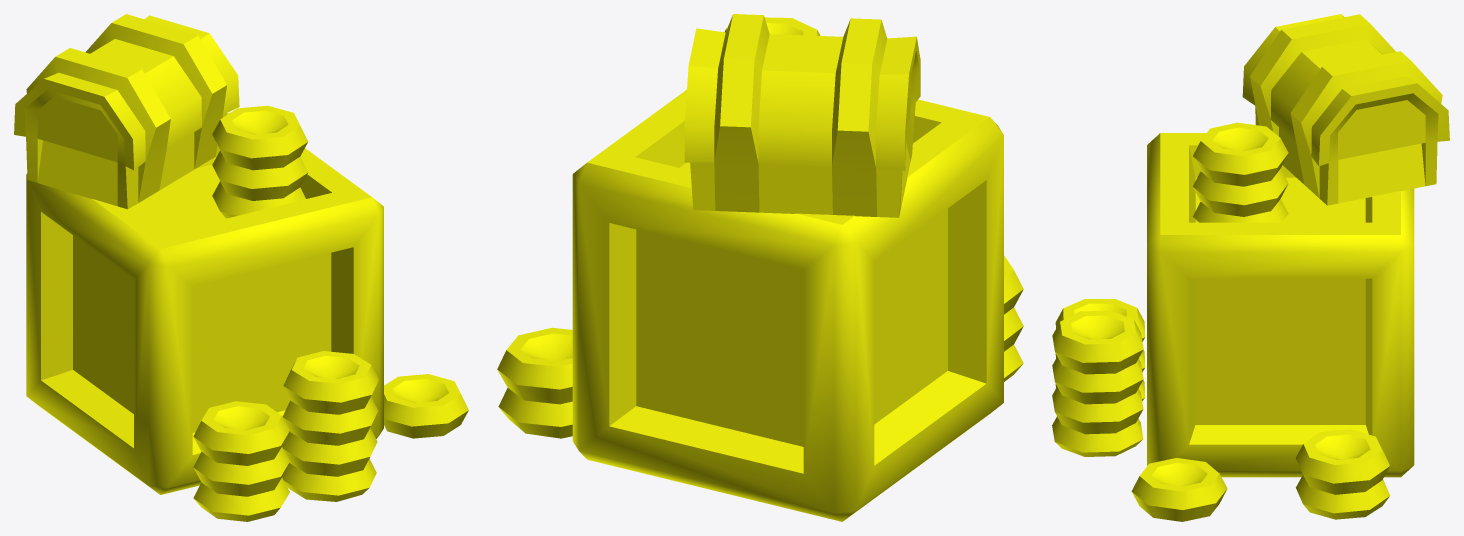
The model's file is kaykit-box-small-decorated.glb.
The picture shows the model from 3 angles, left to right: view 1: azimuth 30°, elevation 25°; view 2: azimuth 150°, elevation 25°; view 3: azimuth 270°, elevation 25°; orthographic projection. The views are drawn at different scales.
Parts seen in each view (by area): view 1: box_small_decorated; view 2: box_small_decorated; view 3: box_small_decorated.
Part boxes in pixels (x1,y1,x2,y2): box_small_decorated: (14,14,468,521); box_small_decorated: (497,14,1023,521); box_small_decorated: (1052,14,1449,521).
Bounding box in the file's own units: 1.49 × 1.48 × 1.49.
